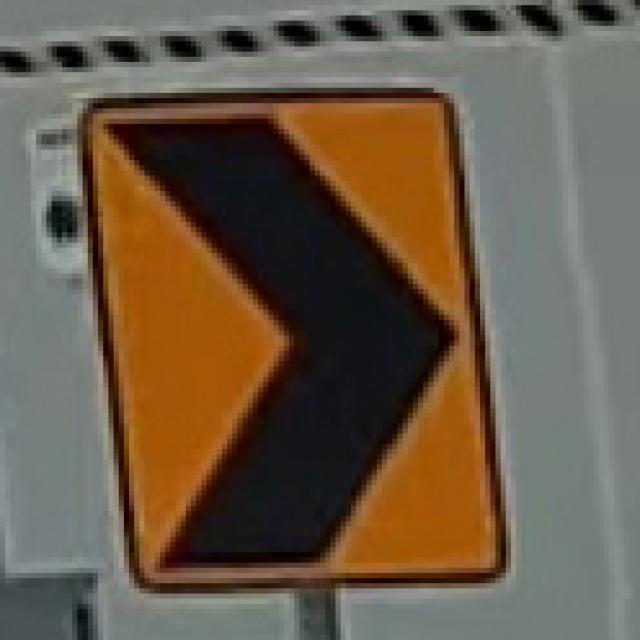curveright_sign: (77, 88, 506, 588)
